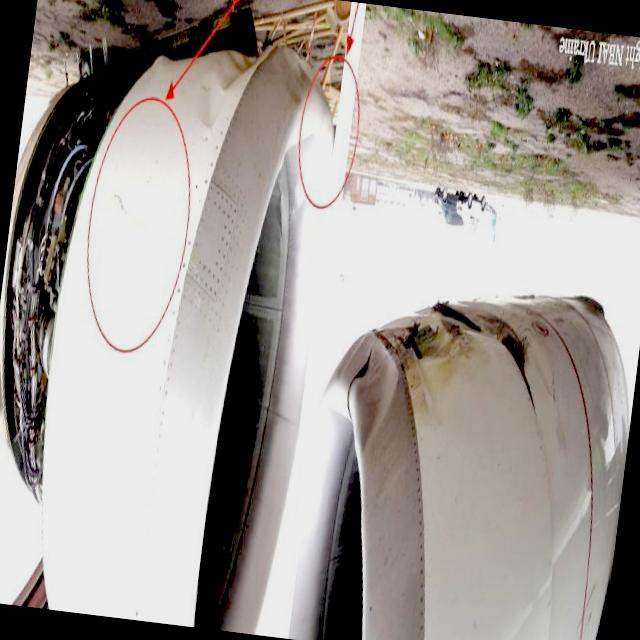crack: (108, 185, 132, 224)
dent: (191, 40, 269, 138)
